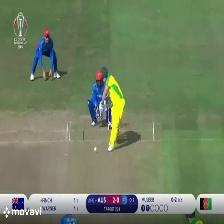ball: (92, 143, 99, 153)
batsman: (95, 66, 126, 152)
